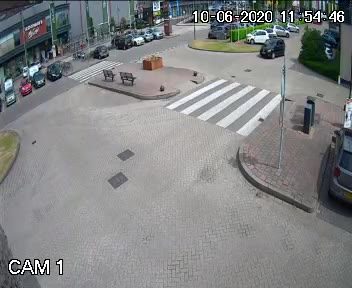car: (255, 36, 285, 59)
